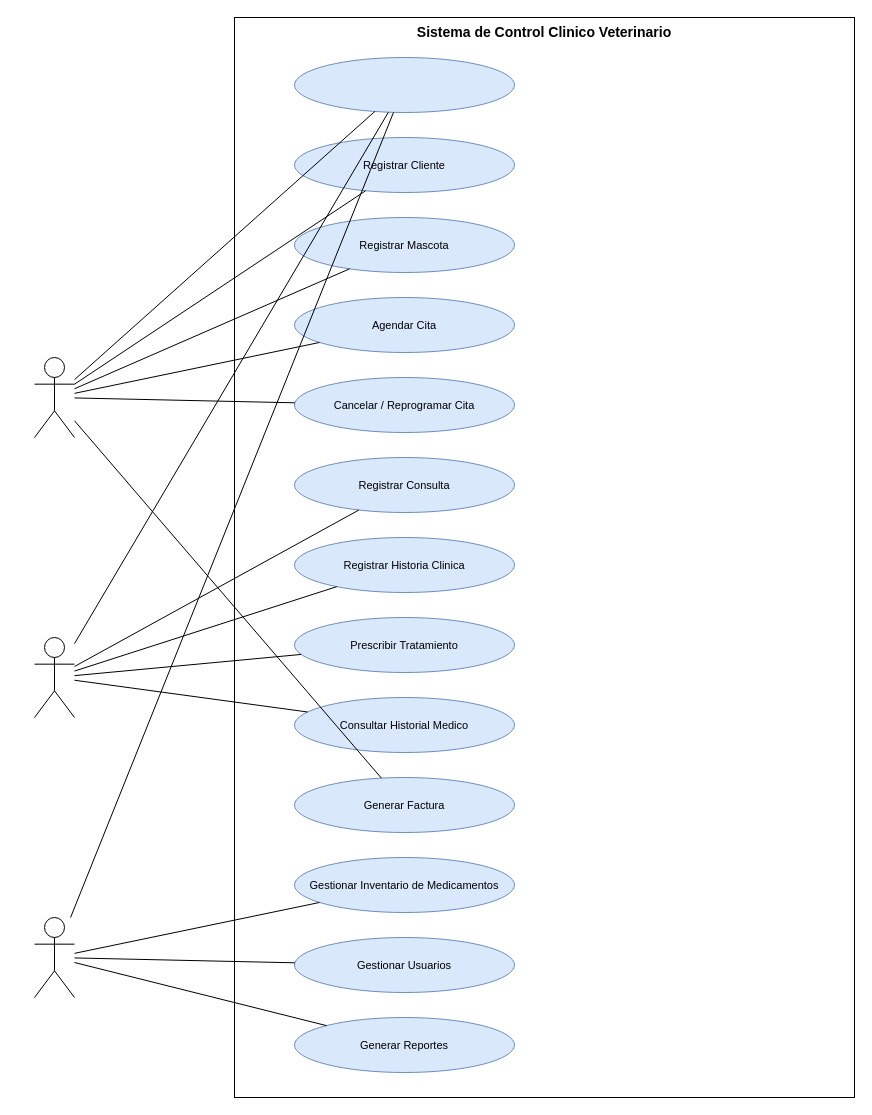
The diagram is 872 pixels wide and 1115 high, and some of its shapes have lost their labels. The shapes that lost their labels are listed below. From the top down, each one's centre as x and y in pixels, then its label:
At pixel 404 84: "Iniciar Sesion".
At pixel 54 397: "Recepcionista".
At pixel 54 677: "Veterinario".
At pixel 54 957: "Administrador".
